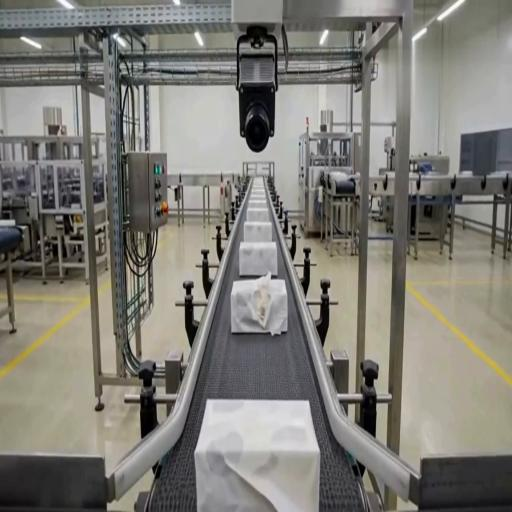defective: (196, 397, 318, 512), (230, 275, 288, 335)
good: (238, 241, 278, 278), (242, 221, 272, 244), (246, 199, 270, 221), (248, 181, 269, 195), (247, 175, 267, 186)
